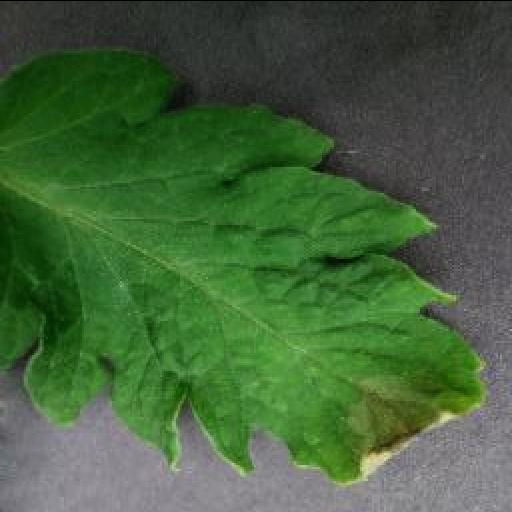disease_tomato: (0, 42, 486, 488)
